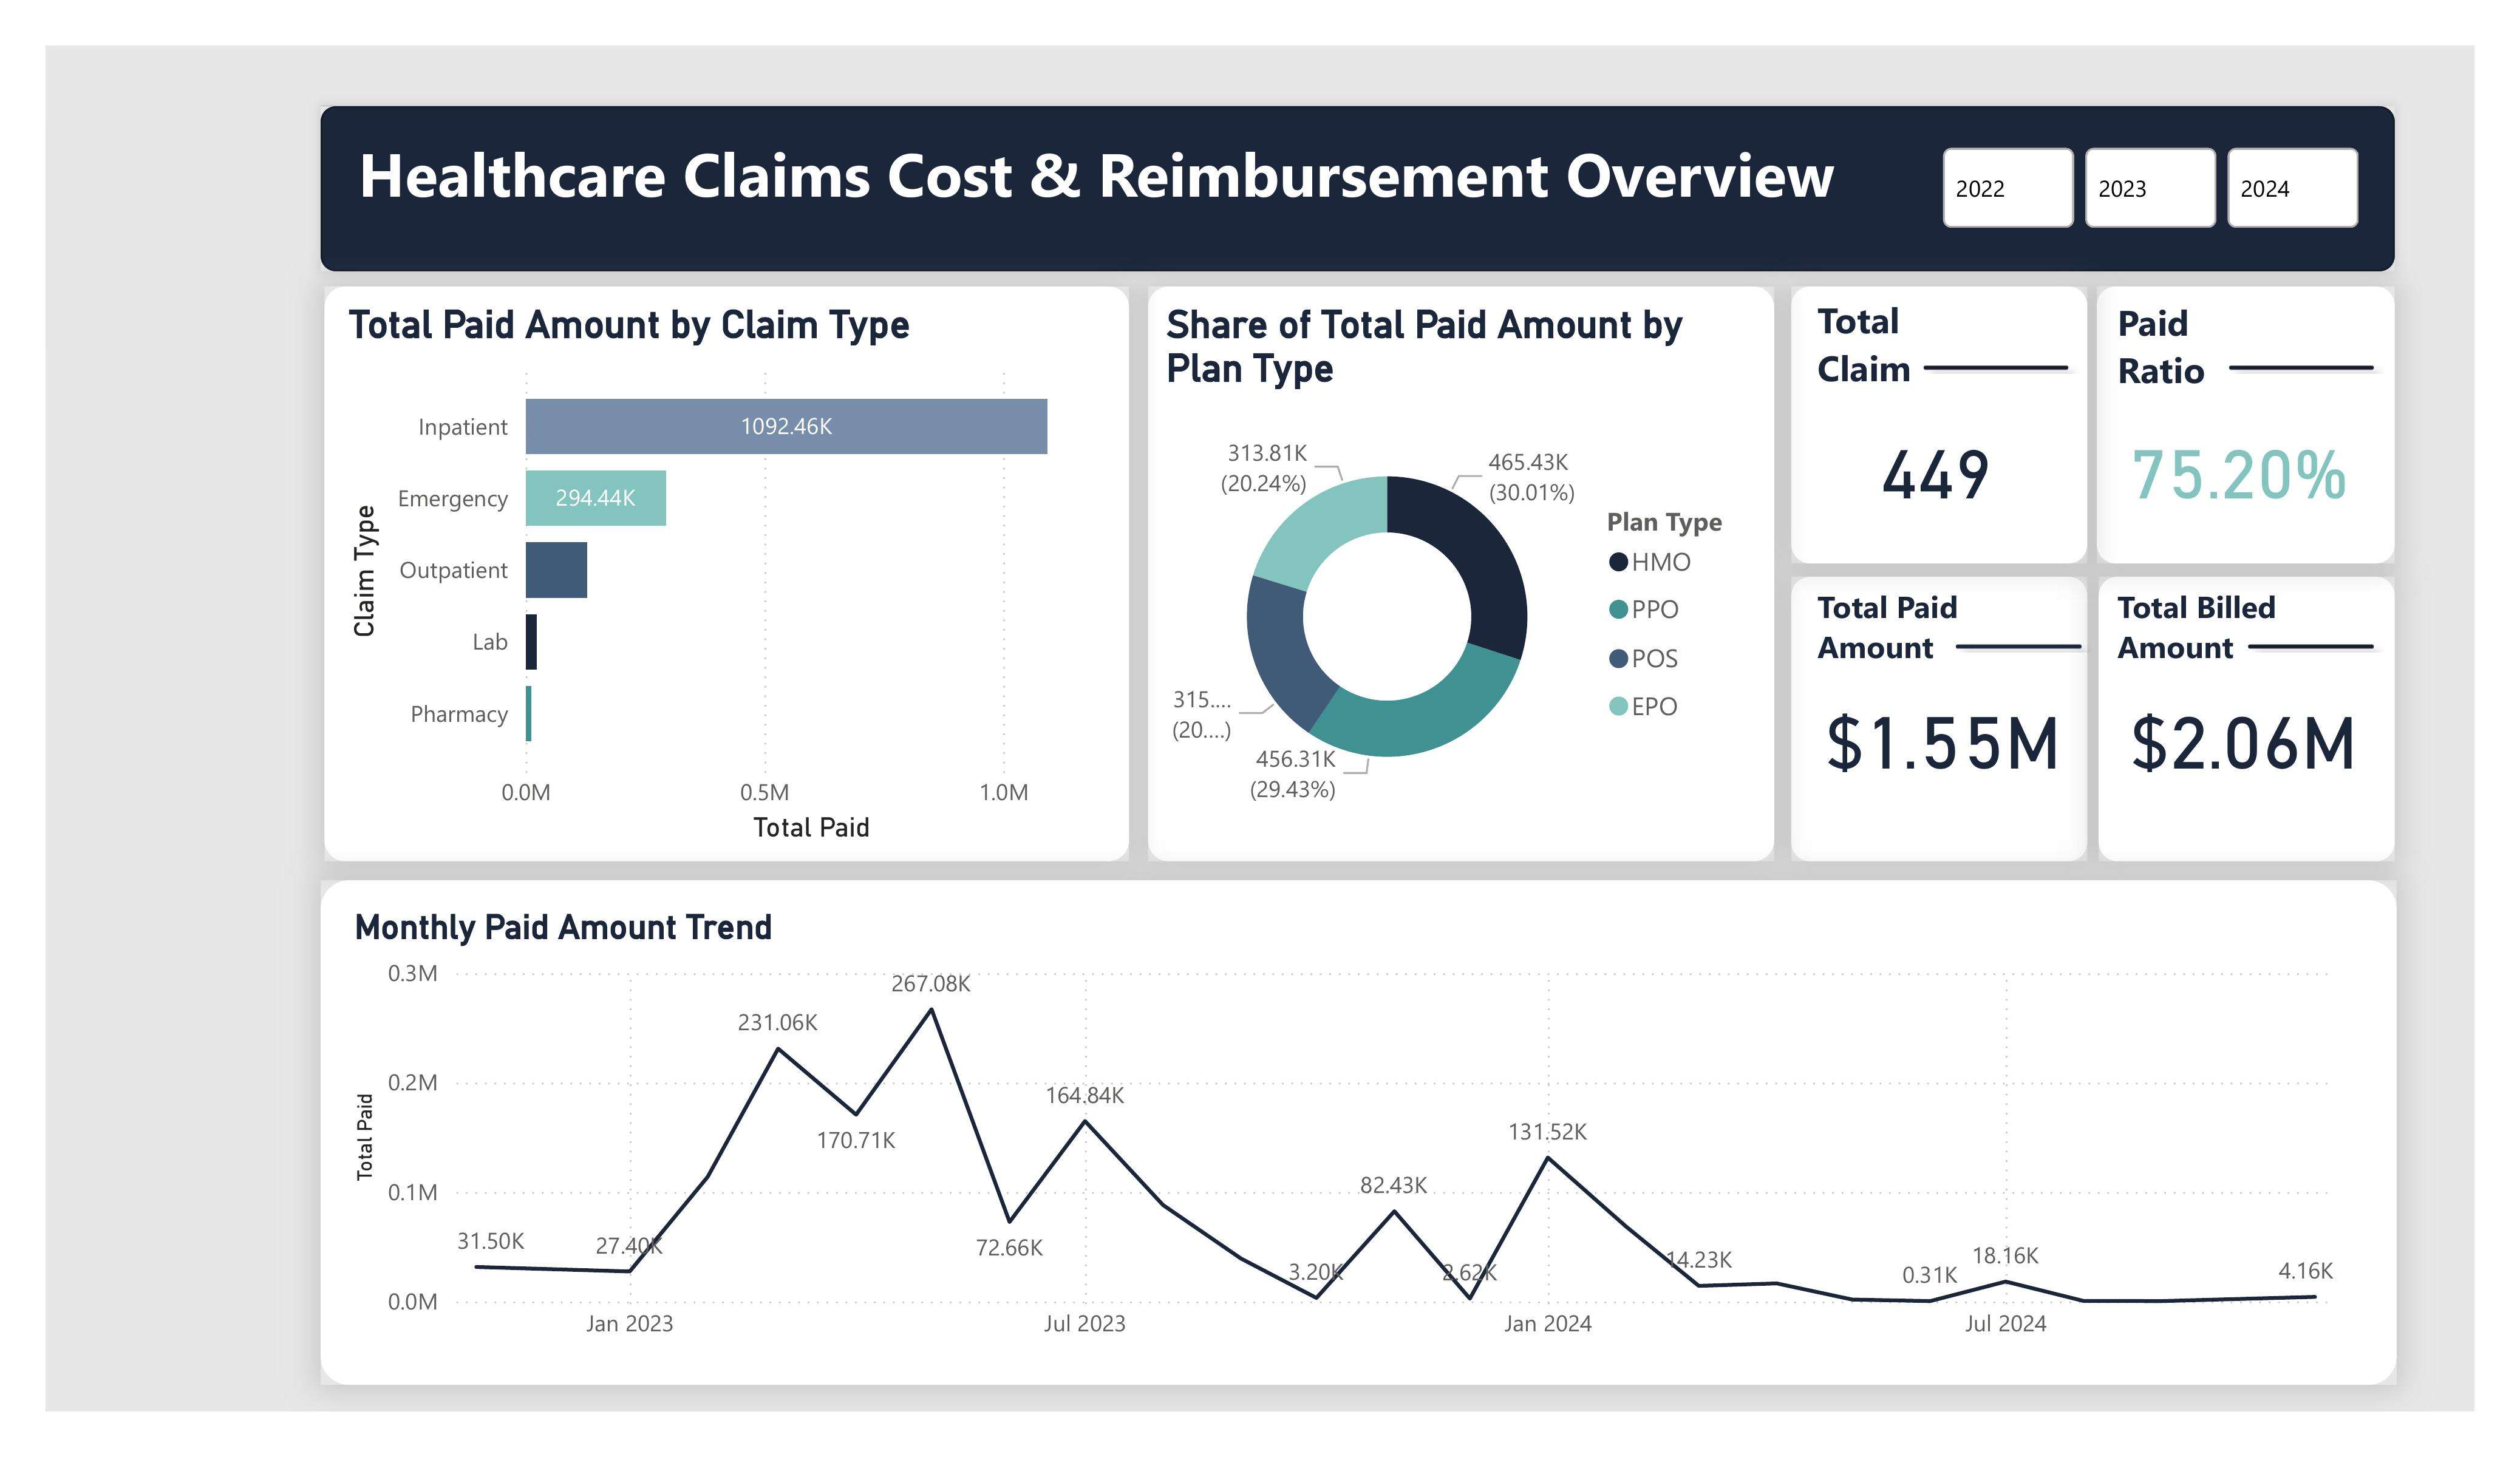

The page's visual inventory and layout, read from the dashboard file:
{"tool":"powerbi","page":{"name":"Executive Overview","canvas":[1280,720],"ordinal":0},"visuals":[{"type":"shape","box":[920,280,155.6,150],"z":0},{"type":"shape","box":[147.1,127.1,424,302.9],"z":2000,"group":"g2"},{"type":"shape","box":[1081.5,280,156,150],"z":2000},{"type":"shape","box":[145,440,1093.8,266.2],"z":3000,"group":"g3"},{"type":"shape","box":[1081.3,126.5,157,146.5],"z":4000},{"type":"shape","box":[581.4,127.1,330,302.9],"z":4000,"group":"g1"},{"type":"shape","box":[145,31.7,1092.8,87.4],"z":5000},{"type":"shape","box":[920,127,155.7,146.1],"z":6000},{"type":"card","fields":{"Values":["healtcare_claim claims.Claim Count"]},"box":[920,193.3,153.3,60],"z":7000},{"type":"card","fields":{"Values":["healtcare_claim claims.Paid Ratio"]},"box":[1076.7,193.3,158.3,60],"z":8000},{"type":"barChart","title":"Total Paid Amount by Claim Type","fields":{"Category":["healtcare_claim vw_claims_gold.claim_type"],"Series":["healtcare_claim vw_claims_gold.claim_type"],"Y":["healtcare_claim claims.Total Paid"]},"box":[158.3,135,413.1,287.1],"z":9000,"group":"g2"},{"type":"card","fields":{"Values":["healtcare_claim claims.Total Billed ($)"]},"box":[1080,335,156.7,58.3],"z":9000},{"type":"donutChart","title":"Share of Total Paid Amount by Plan Type","fields":{"Y":["healtcare_claim claims.Total Paid"],"Category":["healtcare_claim vw_claims_gold.plan_type"]},"box":[586.3,134.9,320.9,285.9],"z":10000,"group":"g1"},{"type":"card","title":"Total Paid","fields":{"Values":["healtcare_claim claims.Total paid ($)"]},"box":[921.2,335,157.5,57.5],"z":11000},{"type":"lineChart","title":"Monthly Paid Amount Trend","fields":{"Category":["healtcare_claim vw_claims_gold.claim_date.Variation.Date Hierarchy.Year","healtcare_claim vw_claims_gold.claim_date.Variation.Date Hierarchy.Month"],"Y":["healtcare_claim claims.Total Paid"]},"box":[158.3,453.9,1065,238.3],"z":11000,"group":"g3"},{"type":"group","id":"g1","title":"Group 1","box":[581.4,127.1,330,302.9],"z":12000},{"type":"group","id":"g2","title":"Group 2","box":[147.1,127.1,424.3,302.9],"z":13000},{"type":"textbox","box":[929,280,164,55],"z":14000},{"type":"textbox","box":[1086.7,280,168.9,55],"z":15000},{"type":"advancedSlicerVisual","fields":{"Values":["healtcare_claim vw_claims_gold.claim_year"]},"box":[994.9,48.5,228.9,52.6],"z":16000},{"type":"textbox","box":[928.7,126.7,84,66.7],"z":17000},{"type":"textbox","box":[160,40,853.3,78.3],"z":18000},{"type":"textbox","box":[1086.7,127.5,90,65.8],"z":19000},{"type":"group","id":"g3","title":"Group 3","box":[145,440,1093.8,266.2],"z":20000},{"type":"shape","box":[980.9,160,94.5,12.7],"z":21000},{"type":"shape","box":[1141.8,160,94.5,12.7],"z":22000},{"type":"shape","box":[998,307,84,13],"z":23000},{"type":"shape","box":[1151.8,307.3,84.5,12.7],"z":24000}]}

Visuals, with their boxes on the page's 1280x720 design canvas (x1, y1, x2, y2). These are canvas units, not pixel positions in the 2520x1457 screenshot, which may show the page scaled, cropped or inside an application window:
shape: [920,280,1076,430]
shape: [147,127,571,430]
shape: [1082,280,1238,430]
shape: [145,440,1239,706]
shape: [1081,126,1238,273]
shape: [581,127,911,430]
shape: [145,32,1238,119]
shape: [920,127,1076,273]
card - healtcare_claim claims.Claim Count: [920,193,1073,253]
card - healtcare_claim claims.Paid Ratio: [1077,193,1235,253]
"Total Paid Amount by Claim Type" barChart: [158,135,571,422]
card - healtcare_claim claims.Total Billed ($): [1080,335,1237,393]
"Share of Total Paid Amount by Plan Type" donutChart: [586,135,907,421]
"Total Paid" card: [921,335,1079,392]
"Monthly Paid Amount Trend" lineChart: [158,454,1223,692]
"Group 1" group: [581,127,911,430]
"Group 2" group: [147,127,571,430]
textbox: [929,280,1093,335]
textbox: [1087,280,1256,335]
advancedSlicerVisual - healtcare_claim vw_claims_gold.claim_year: [995,48,1224,101]
textbox: [929,127,1013,193]
textbox: [160,40,1013,118]
textbox: [1087,128,1177,193]
"Group 3" group: [145,440,1239,706]
shape: [981,160,1075,173]
shape: [1142,160,1236,173]
shape: [998,307,1082,320]
shape: [1152,307,1236,320]
